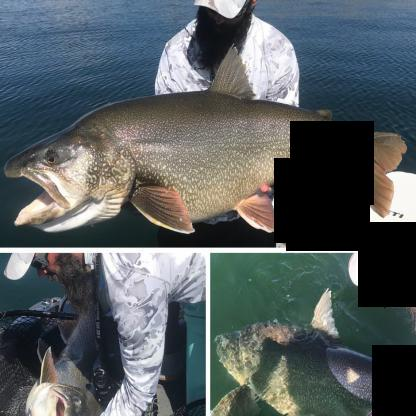fish: (7, 51, 408, 238)
